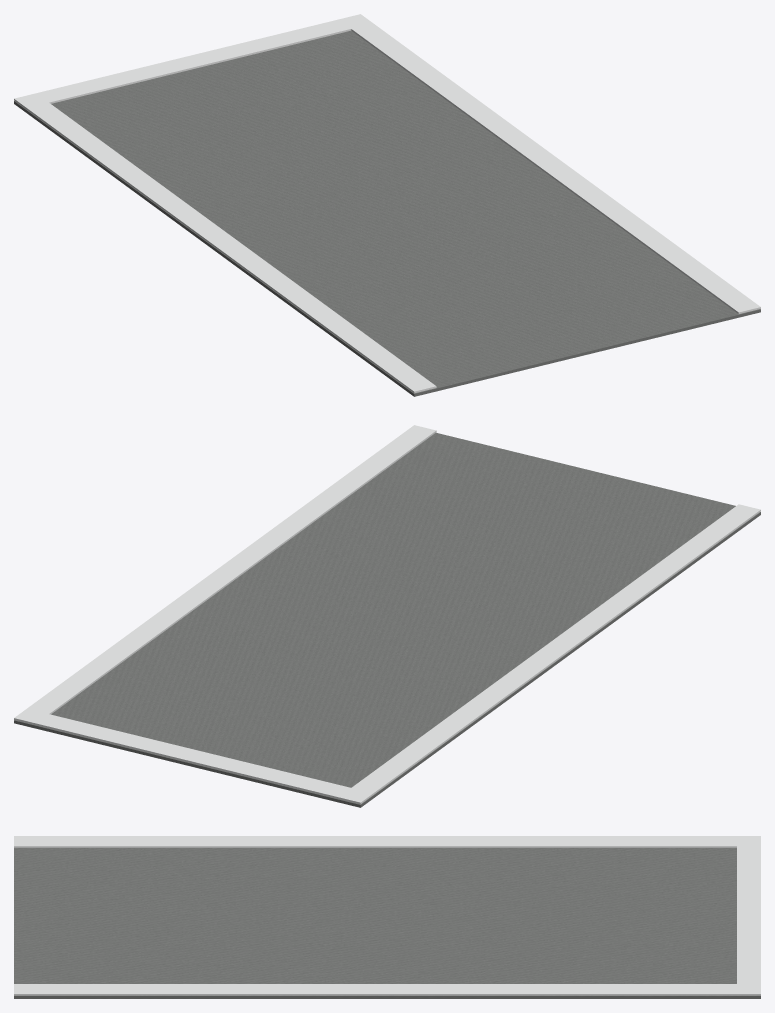
Rendered from car-park-and-road-vehicle-fleet-bay-marking-tile-a65ce315__32548.glb.
3 renders of one model, top to bottom at view 1: azimuth 30°, elevation 25°; view 2: azimuth 150°, elevation 25°; view 3: azimuth 270°, elevation 25°, orthographic. The views are drawn at different scales.
Visible parts, largest first — view 1: bay-marking-tile; view 2: bay-marking-tile; view 3: bay-marking-tile.
Part boxes in pixels (<box>): bay-marking-tile: <box>14,14,760,396</box>; bay-marking-tile: <box>14,425,760,807</box>; bay-marking-tile: <box>14,836,760,998</box>.
Size of the model in its own units: 2.5 by 0.0362 by 5.
2 materials, 1 textured.
